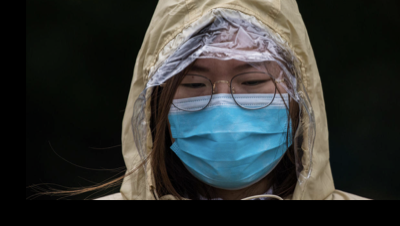with_mask: (167, 60, 295, 190)
